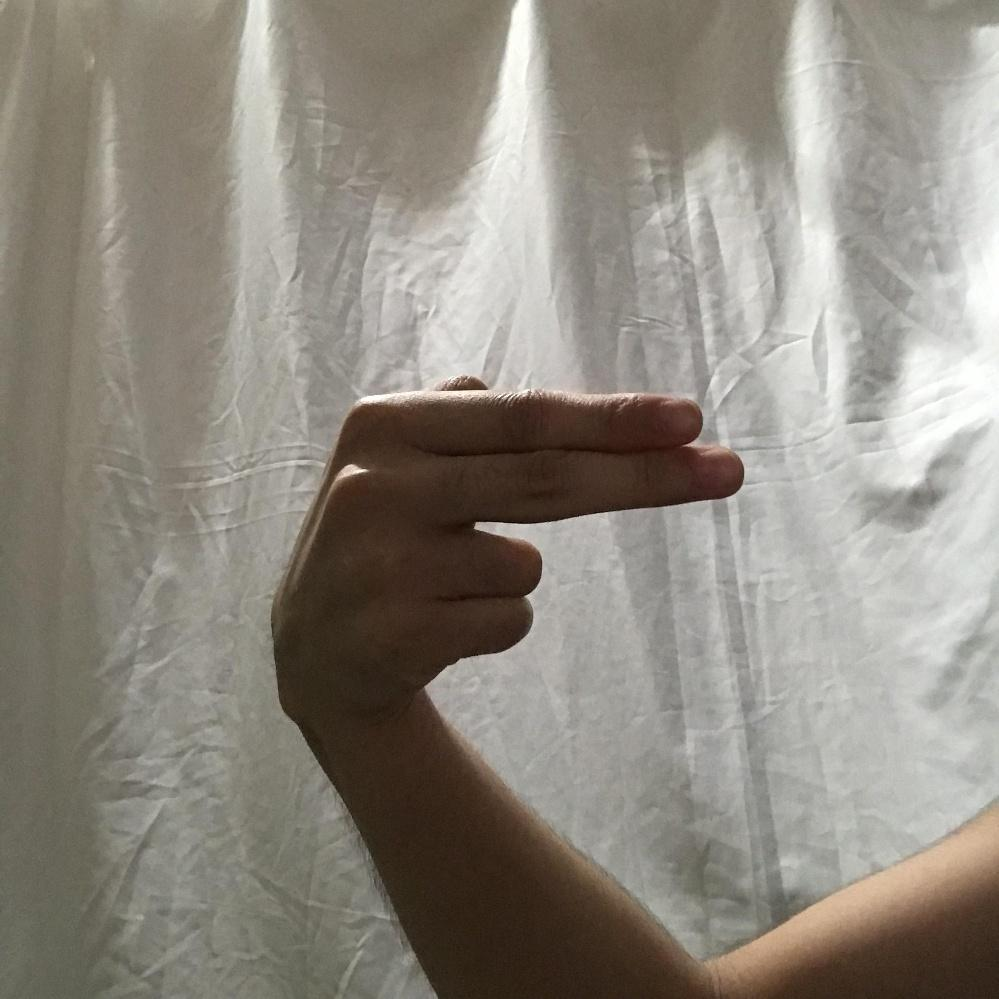h: (286, 375, 746, 691)
